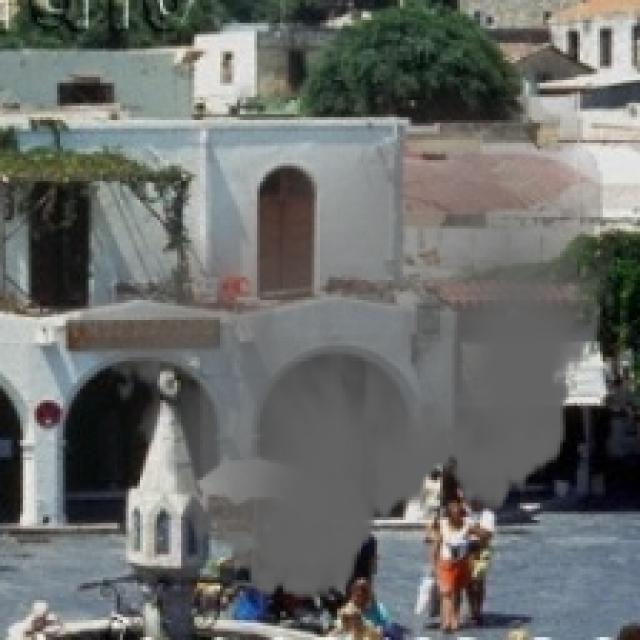smoke: (63, 57, 614, 620)
